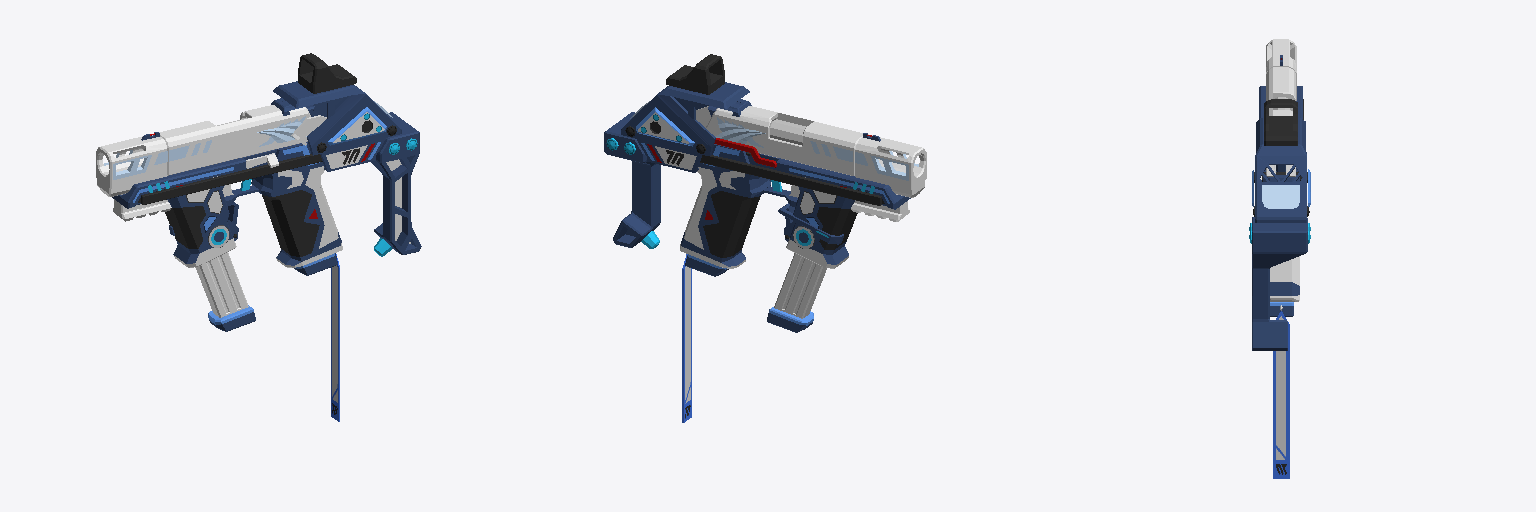
3 views of the same model, side by side, from view 1: azimuth 30°, elevation 25°; view 2: azimuth 150°, elevation 25°; view 3: azimuth 270°, elevation 25° (orthographic).
Parts seen in each view (by area): view 1: CH0095_Weapon; view 2: CH0095_Weapon; view 3: CH0095_Weapon.
Part boxes in pixels (left/top/right/bottom): CH0095_Weapon: left=96, top=53, right=421, bottom=421; CH0095_Weapon: left=604, top=54, right=926, bottom=422; CH0095_Weapon: left=1249, top=39, right=1310, bottom=478.
Bounding box in the file's own units: 0.2364 × 0.2717 × 0.0417.
1 materials, 1 textured.